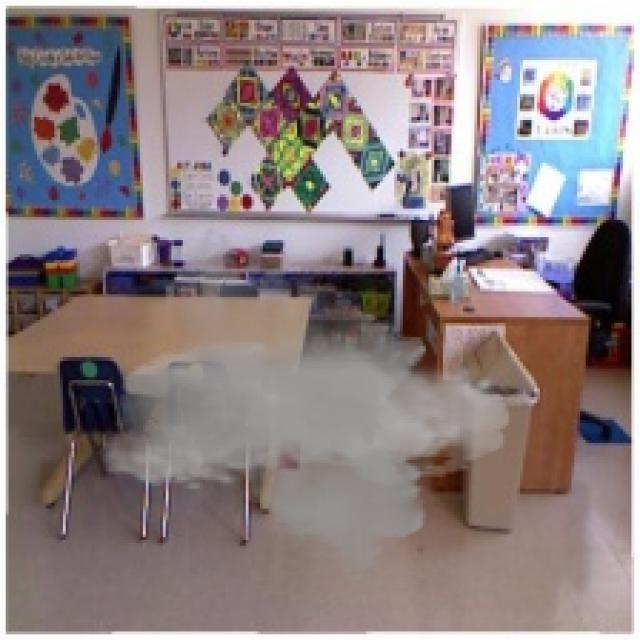smoke: (100, 226, 511, 583)
